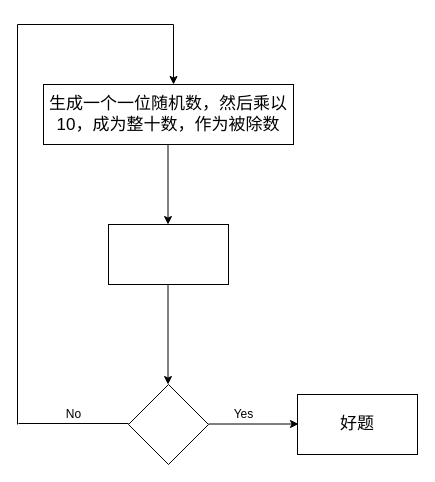
This 435x482 diagram has some shape labels left out. The shapes that lost their labels are listed below. From the top down, each one's centre as x and y in pixels, then its label:
pixel 168 254: 生成一个一位随机数，作为除数
pixel 168 424: 能整除吗
